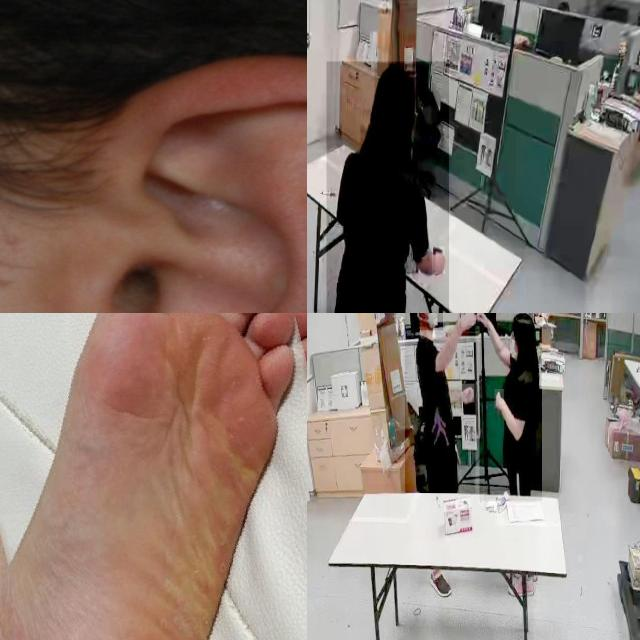Barefoots: (0, 313, 307, 640)
No_Ear-Protection: (56, 52, 307, 313)
face_mask: (418, 313, 443, 331)
hand_noglove: (432, 246, 446, 275), (461, 384, 475, 403), (459, 313, 475, 329), (494, 389, 504, 409), (476, 313, 489, 326)
head_nohelmet: (375, 63, 415, 101), (511, 313, 535, 332)
person: (326, 61, 449, 313), (405, 313, 476, 494), (479, 313, 542, 502)
shoes: (428, 565, 454, 599)
